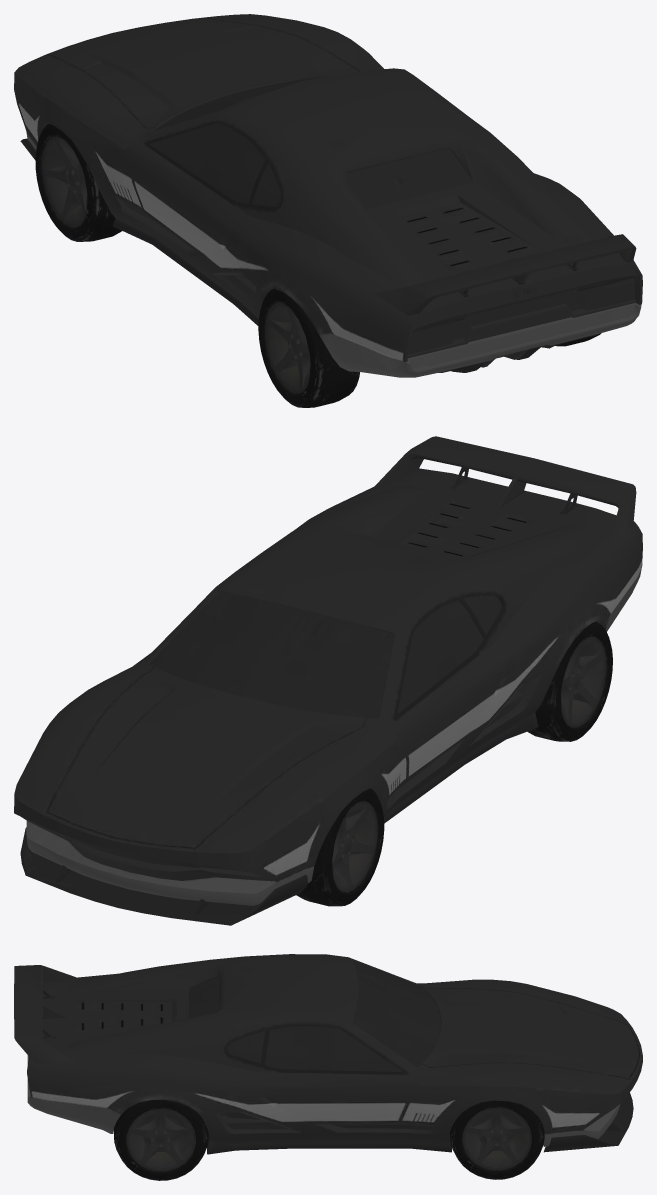
File: cyberpunk.glb
3 views of the same model, one above another, from view 1: azimuth 30°, elevation 25°; view 2: azimuth 150°, elevation 25°; view 3: azimuth 270°, elevation 25° (orthographic). The views are drawn at different scales.
Visible parts, largest first — view 1: cb_car_export_cb_car_0; view 2: cb_car_export_cb_car_0; view 3: cb_car_export_cb_car_0.
Part boxes in pixels (<box>): cb_car_export_cb_car_0: <box>14,14,642,407</box>; cb_car_export_cb_car_0: <box>14,436,642,925</box>; cb_car_export_cb_car_0: <box>14,954,642,1180</box>.
Size of the model in its own units: 223 by 140 by 541.
1 material, 1 textured.
